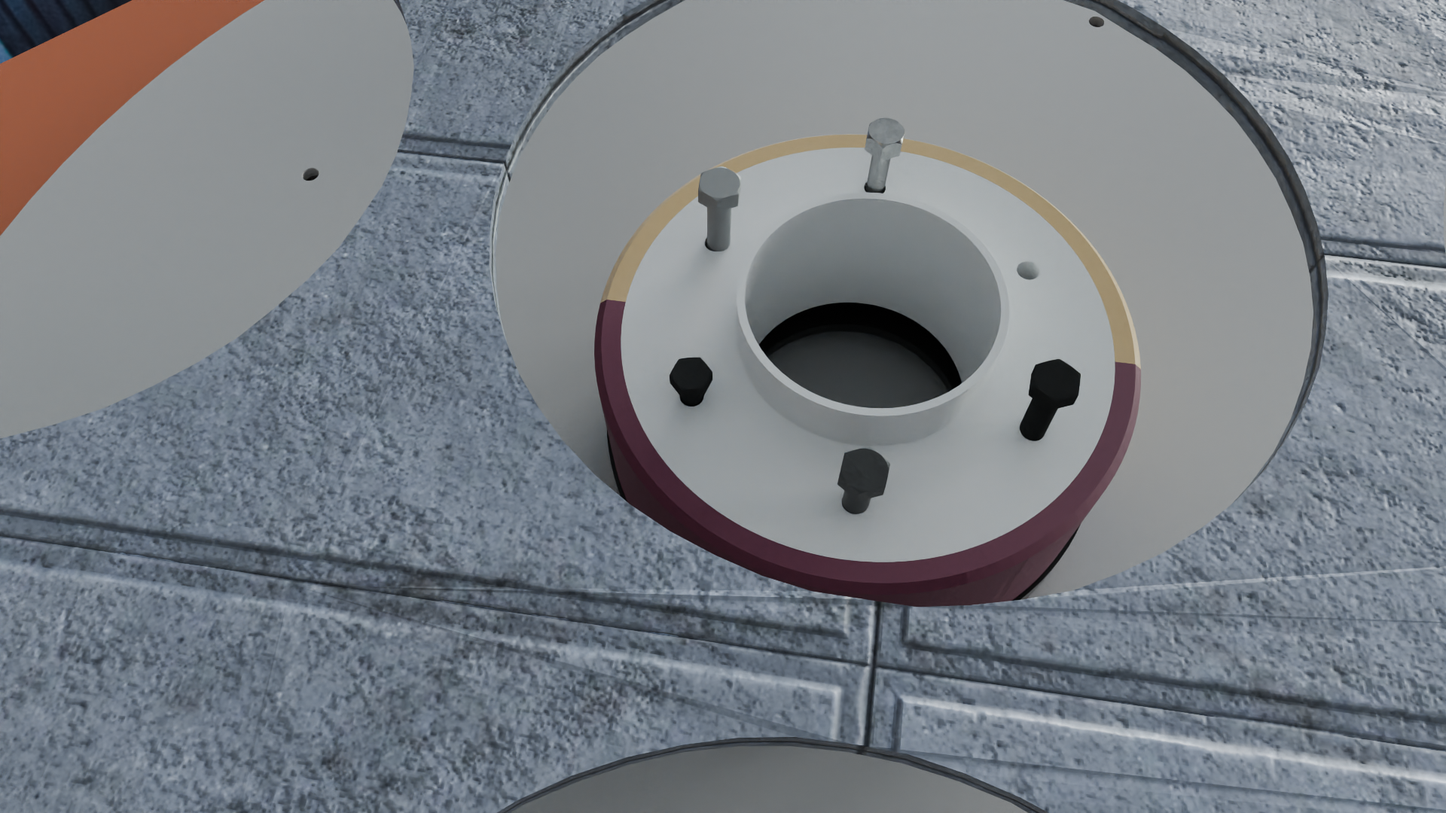bolt: (839, 446, 890, 494), (1033, 359, 1081, 401), (698, 166, 741, 202), (670, 358, 712, 390), (867, 118, 905, 149)
